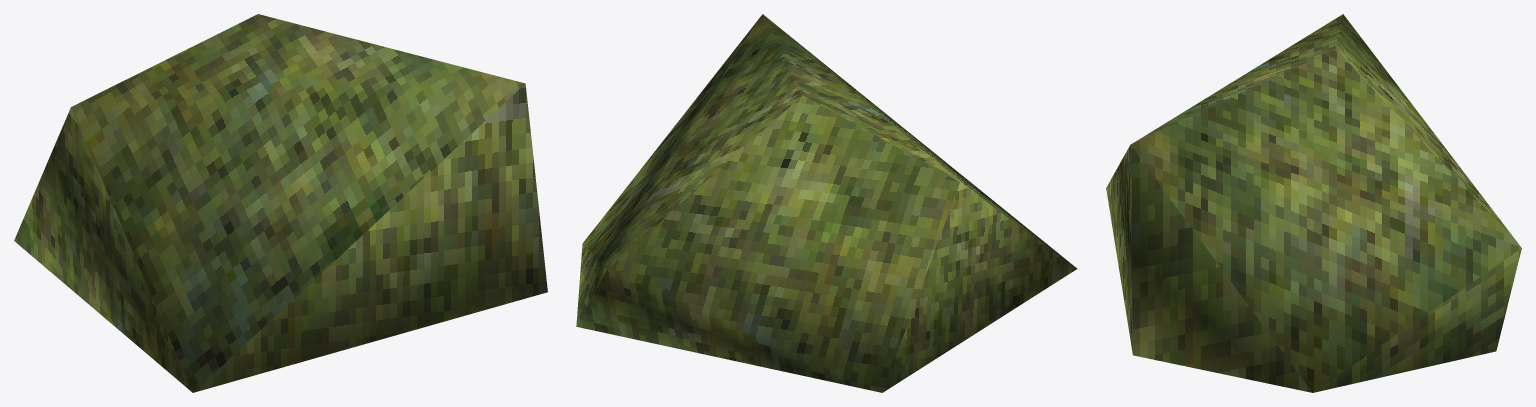
The model's file is Moss_medium_2.fbx.
3 views of the same model, side by side, from view 1: azimuth 30°, elevation 25°; view 2: azimuth 150°, elevation 25°; view 3: azimuth 270°, elevation 25° (orthographic). The views are drawn at different scales.
Parts seen in each view (by area): view 1: Moss_medium_2; view 2: Moss_medium_2; view 3: Moss_medium_2.
Boxes of the visible parts, <box> form: Moss_medium_2: <box>14,14,547,392</box>; Moss_medium_2: <box>576,14,1077,392</box>; Moss_medium_2: <box>1106,14,1521,392</box>.
Bounding box in the file's own units: 0.8504 × 0.4348 × 0.7297.
